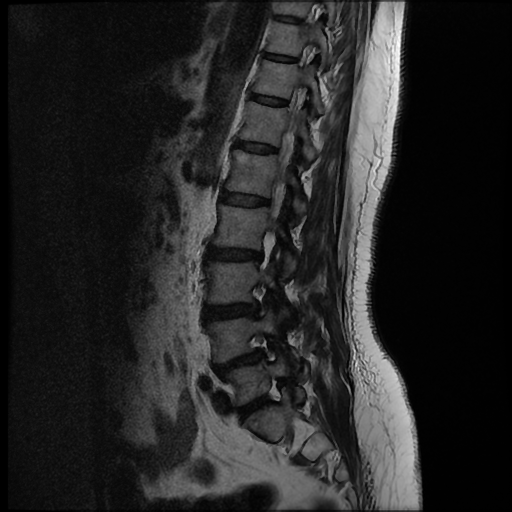LFS2: (234, 271, 281, 325), (239, 323, 283, 373)
